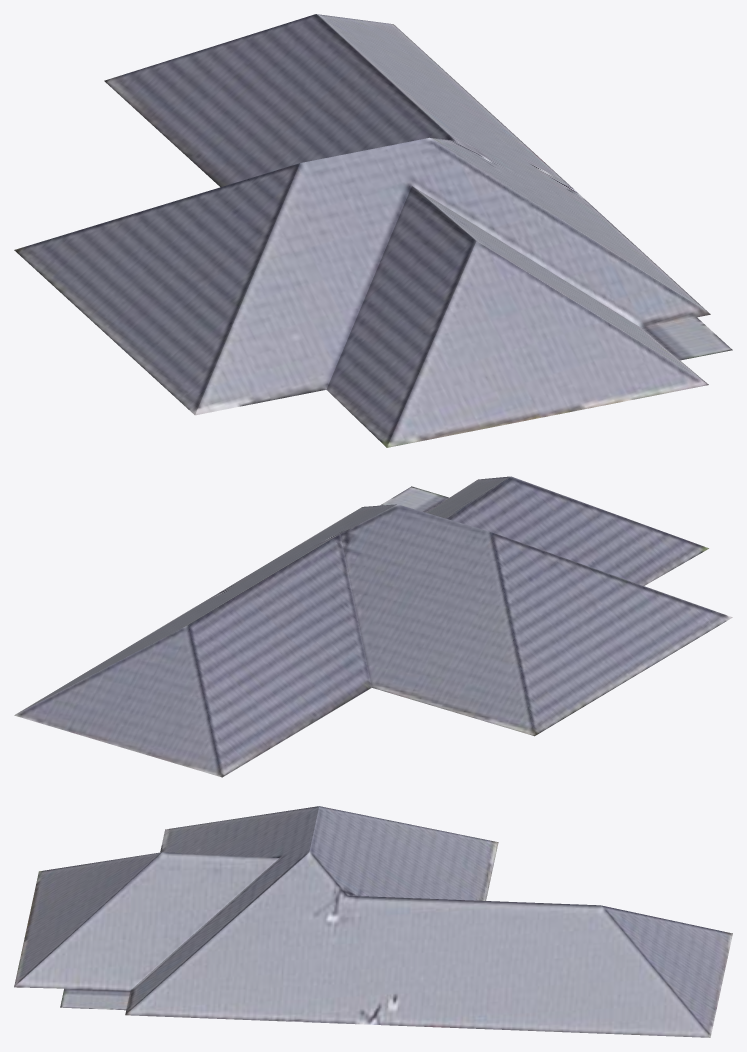
Rendered from BK39_500_018031_0061_roof.obj.
The picture shows the model from 3 angles, top to bottom: view 1: azimuth 30°, elevation 25°; view 2: azimuth 150°, elevation 25°; view 3: azimuth 270°, elevation 25°; orthographic projection. The views are drawn at different scales.
Parts seen in each view (by area): view 1: BK39_500_018031_0061_roof; view 2: BK39_500_018031_0061_roof; view 3: BK39_500_018031_0061_roof.
Boxes of the visible parts, box(x1,y1,x2,y2) form: BK39_500_018031_0061_roof: box(14, 14, 732, 447); BK39_500_018031_0061_roof: box(14, 476, 732, 777); BK39_500_018031_0061_roof: box(14, 806, 732, 1037).
Size of the model in its own units: 310 by 70 by 452.
1 material, 1 textured.
